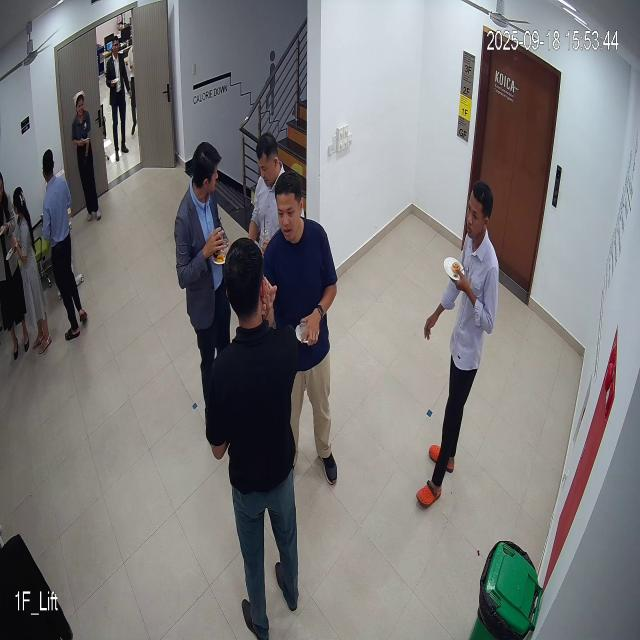face: (275, 171, 306, 243), (464, 177, 492, 244)
